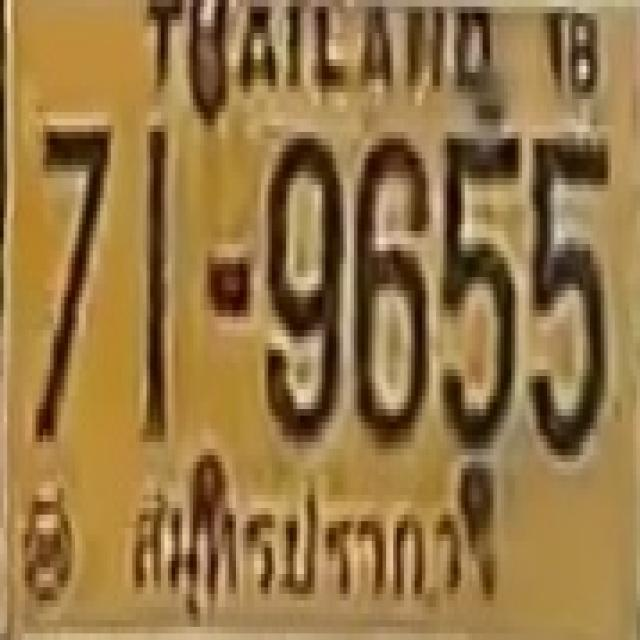1: (143, 122, 164, 439)
5: (526, 132, 608, 449), (440, 129, 518, 445)
6: (350, 132, 426, 442)
7: (34, 122, 109, 439)
9: (261, 128, 340, 438)
SPK: (110, 466, 470, 627)
